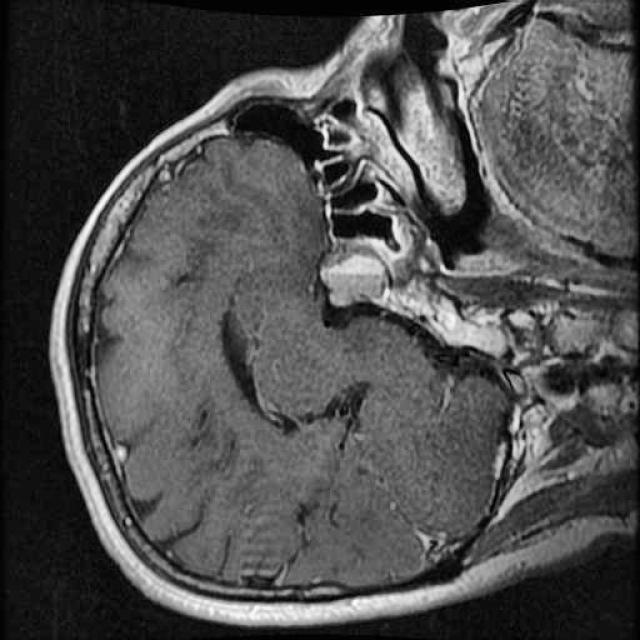Tumor: (311, 236, 400, 326)
